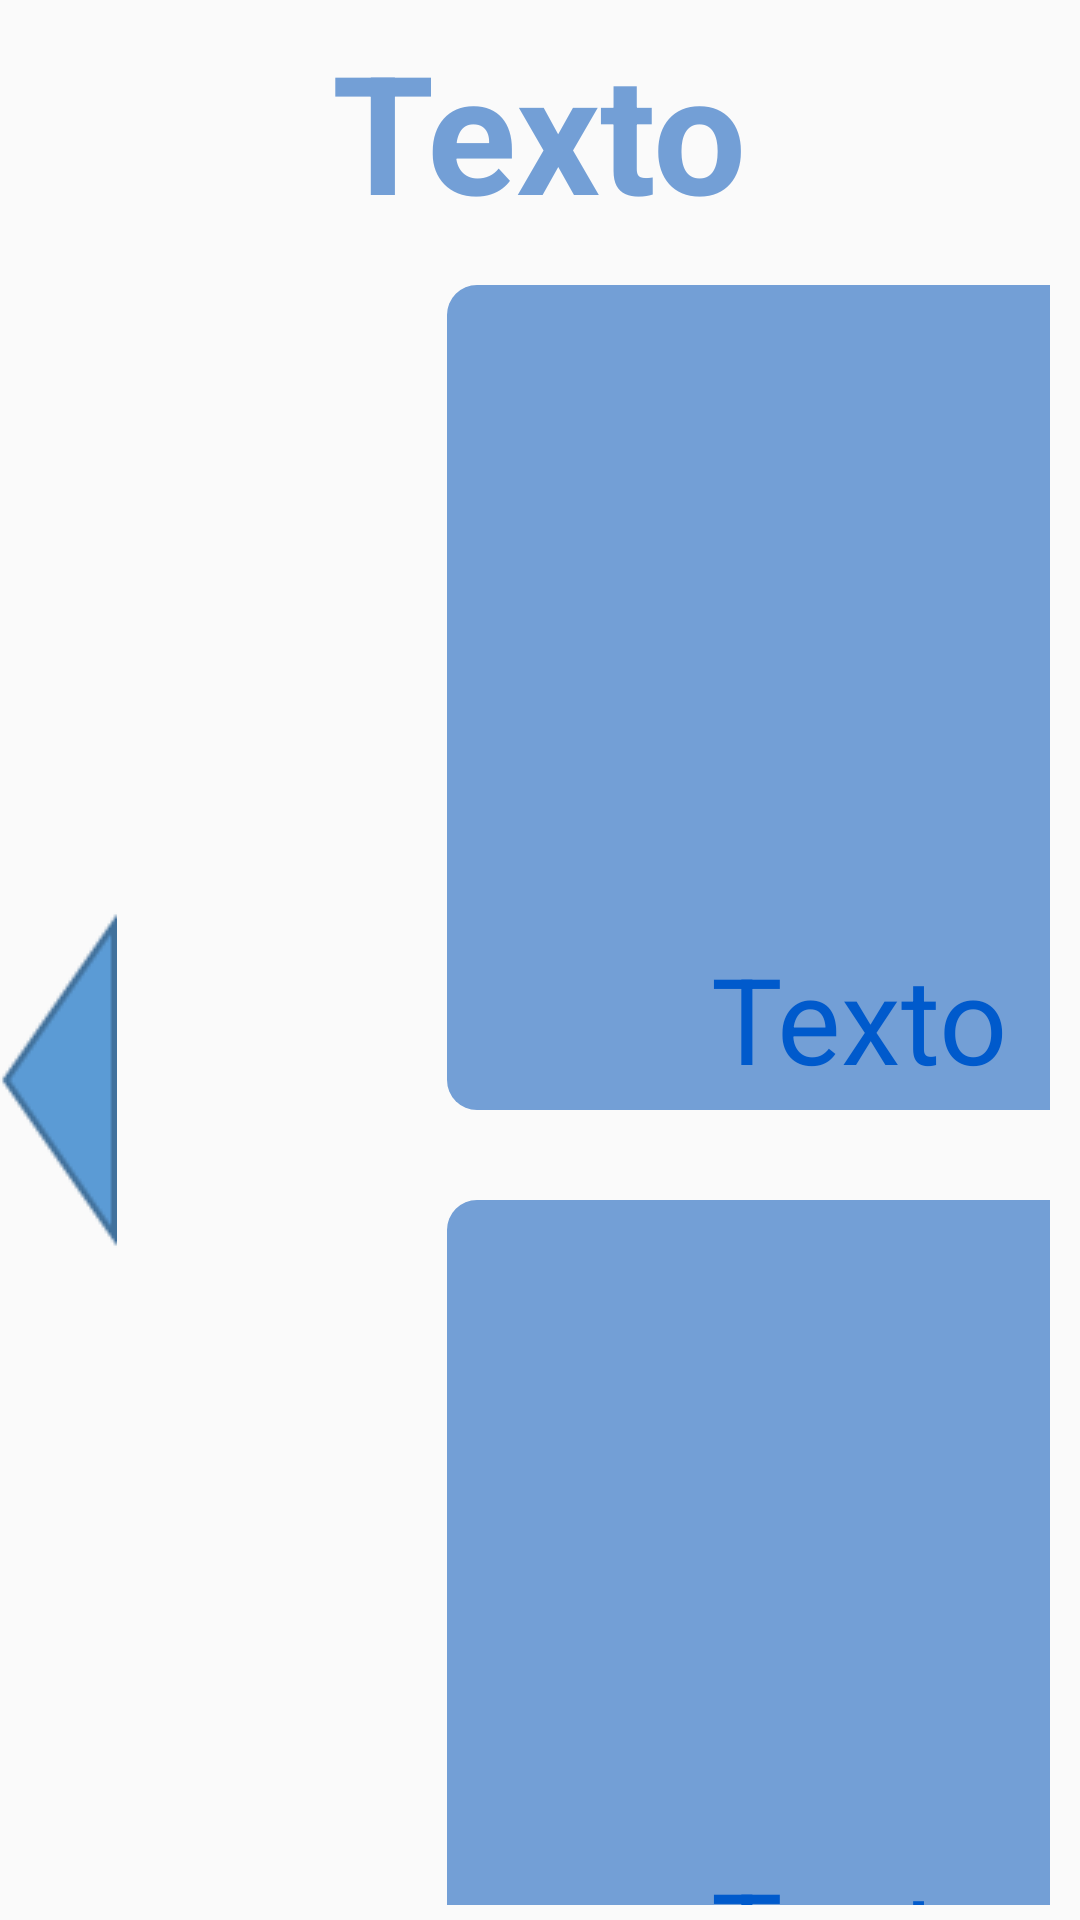

Locate icon controls on the screen. Image size 1080x1920, boxes as (x1, y1, x2, y2).
avance izquierda: (2, 914, 117, 1246)
